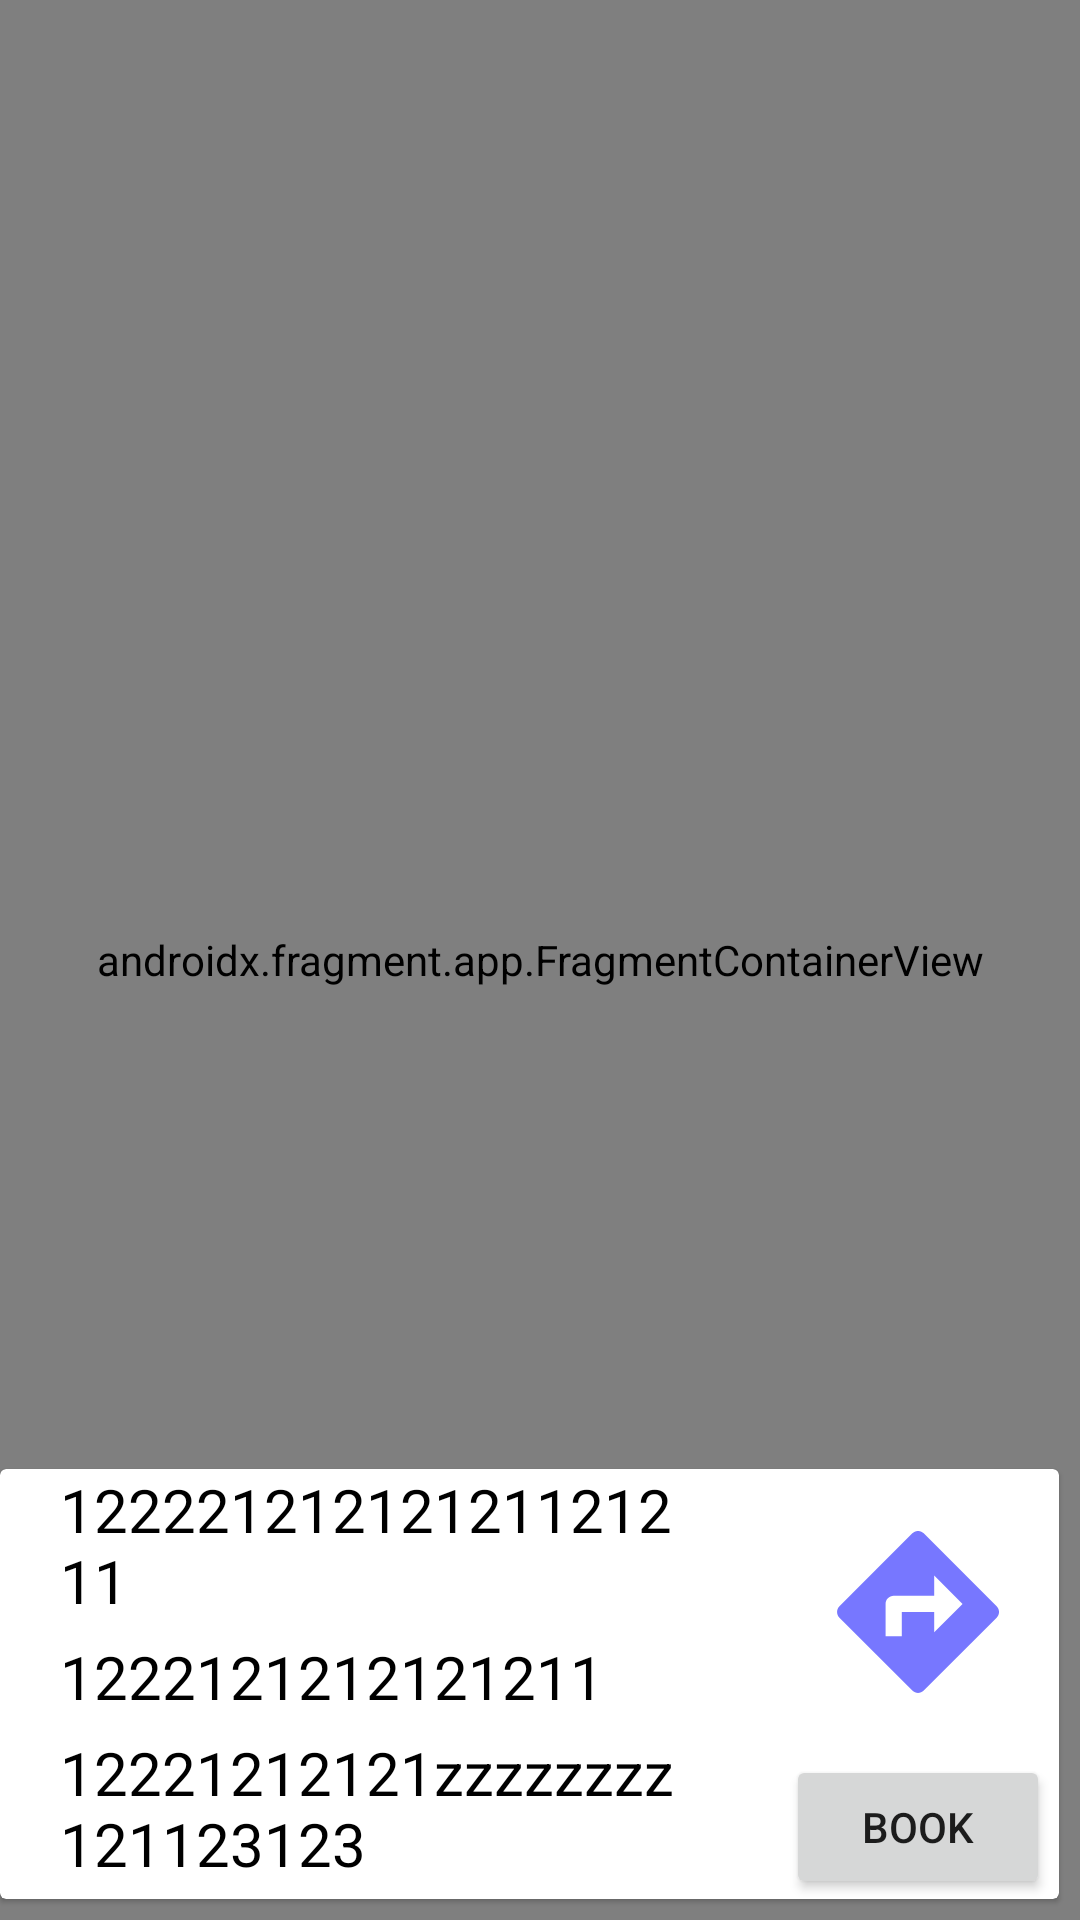

Icons on this 1080×1920 Android screen, each with the point to tap as [x,y]:
directions: [918,1612]
